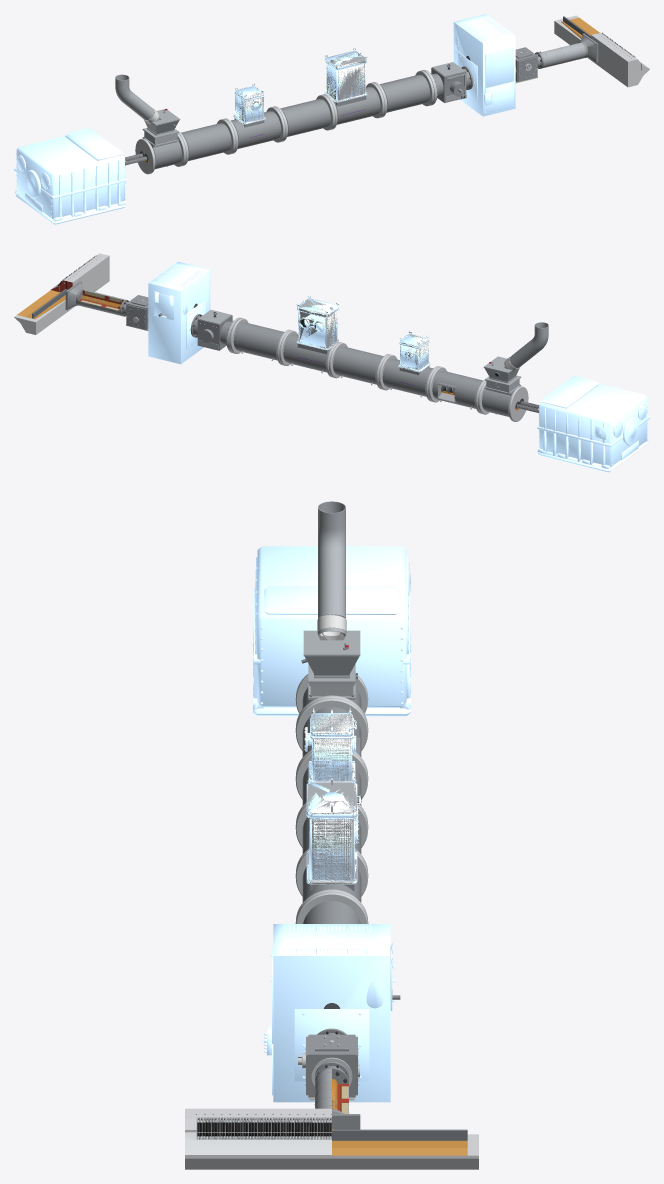
The model's file is interior.glb.
The picture shows the model from 3 angles, top to bottom: view 1: azimuth 30°, elevation 25°; view 2: azimuth 150°, elevation 25°; view 3: azimuth 270°, elevation 25°; orthographic projection. The views are drawn at different scales.
Parts seen in each view (by area): view 1: anim_ghost_drive_gbx, anim_ghost_sc, int_feed_column_hollow, int_barrel_hollow_b6, int_barrel_hollow_b4, int_barrel_hollow_b2, anim_ghost_vent_2, int_barrel_hollow_b3, int_barrel_hollow_b5, int_dome_hollow_2, int_barrel_hollow_b1, int_die_lower_face (+6 smaller); view 2: anim_ghost_drive_gbx, anim_ghost_sc, int_feed_column_hollow, int_barrel_hollow_b6, int_barrel_hollow_b4, anim_ghost_vent_2, int_barrel_hollow_b2, int_die_lower_face, int_barrel_hollow_b3, int_barrel_hollow_b5, int_barrel_hollow_b1, anim_ghost_vent_1 (+9 smaller); view 3: anim_ghost_drive_gbx, anim_ghost_sc, int_feed_column_hollow, int_die_lower_face, int_die_section_upper, anim_ghost_vent_2, int_dome_hollow_2, anim_ghost_vent_1, int_die_thermal_bolts_y0, int_fill_die, int_dome_hollow_1, int_fill_die_lo (+8 smaller).
Part boxes in pixels (<box>): anim_ghost_drive_gbx: <box>14,128,126,224</box>; anim_ghost_sc: <box>453,14,515,116</box>; int_feed_column_hollow: <box>115,74,180,146</box>; int_barrel_hollow_b6: <box>372,70,434,117</box>; int_barrel_hollow_b4: <box>273,94,335,141</box>; int_barrel_hollow_b2: <box>178,119,235,165</box>; anim_ghost_vent_2: <box>324,48,367,102</box>; int_barrel_hollow_b3: <box>224,107,285,153</box>; int_barrel_hollow_b5: <box>323,82,384,129</box>; int_dome_hollow_2: <box>325,48,366,101</box>; int_barrel_hollow_b1: <box>135,133,186,174</box>; int_die_lower_face: <box>554,15,649,86</box>; anim_ghost_drive_gbx: <box>537,375,649,472</box>; anim_ghost_sc: <box>148,262,210,364</box>; int_feed_column_hollow: <box>483,322,548,394</box>; int_barrel_hollow_b6: <box>229,318,290,365</box>; int_barrel_hollow_b4: <box>328,342,390,389</box>; anim_ghost_vent_2: <box>296,296,339,350</box>; int_barrel_hollow_b2: <box>428,366,485,413</box>; int_die_lower_face: <box>14,269,109,334</box>; int_barrel_hollow_b3: <box>378,354,439,401</box>; int_barrel_hollow_b5: <box>279,330,340,377</box>; int_barrel_hollow_b1: <box>477,381,528,421</box>; anim_ghost_vent_1: <box>398,331,430,372</box>; anim_ghost_drive_gbx: <box>253,546,410,716</box>; anim_ghost_sc: <box>263,924,395,1102</box>; int_feed_column_hollow: <box>301,501,360,699</box>; int_die_lower_face: <box>185,1134,478,1169</box>; int_die_section_upper: <box>185,1108,331,1155</box>; anim_ghost_vent_2: <box>306,777,361,884</box>; int_dome_hollow_2: <box>307,777,361,884</box>; anim_ghost_vent_1: <box>304,707,356,782</box>; int_die_thermal_bolts_y0: <box>197,1118,328,1139</box>; int_fill_die: <box>332,1129,467,1155</box>; int_dome_hollow_1: <box>305,708,356,781</box>; int_fill_die_lo: <box>332,1141,467,1155</box>.
Size of the model in its own units: 11.88 by 2.2 by 2.6.
